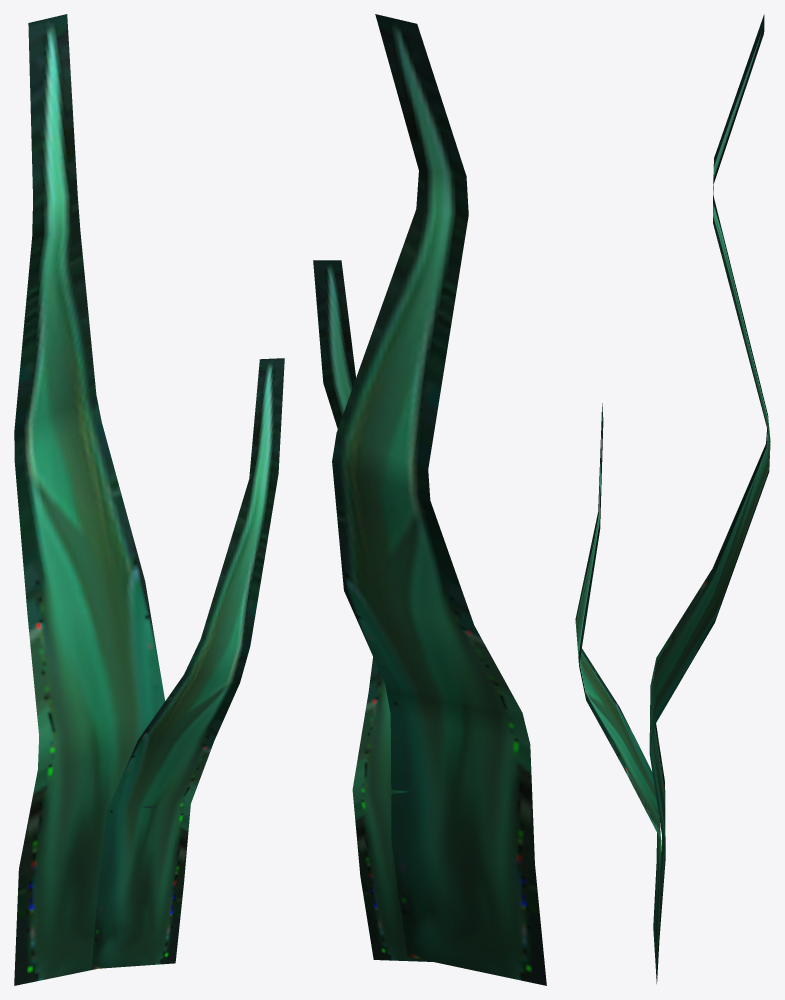
File: pond_grass02.glb
The picture shows the model from 3 angles, left to right: view 1: azimuth 30°, elevation 25°; view 2: azimuth 150°, elevation 25°; view 3: azimuth 270°, elevation 25°; orthographic projection. The views are drawn at different scales.
Parts seen in each view (by area): view 1: water_grass_02_Plants_0; view 2: water_grass_02_Plants_0; view 3: water_grass_02_Plants_0.
Boxes of the visible parts, <box> form: water_grass_02_Plants_0: <box>14,14,284,985</box>; water_grass_02_Plants_0: <box>313,14,546,985</box>; water_grass_02_Plants_0: <box>575,14,770,983</box>.
Size of the model in its own units: 0.1487 by 0.5405 by 0.1032.
1 material, 1 textured.
